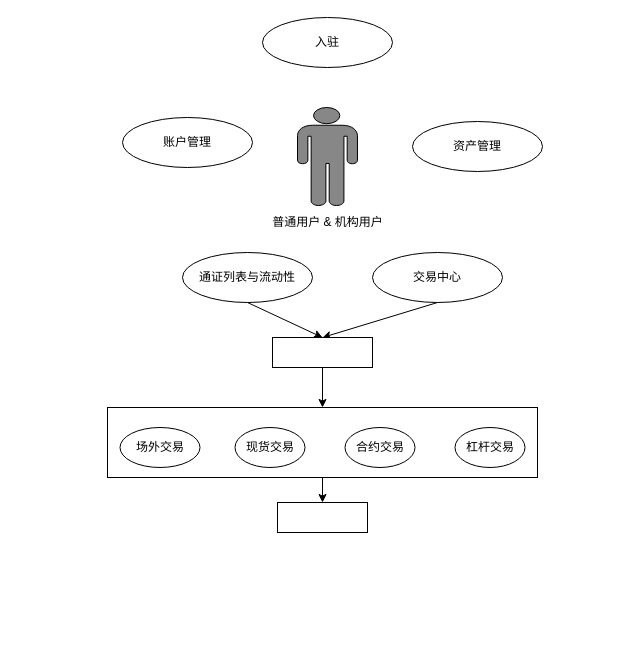
Some shapes in this 644 by 645 pixel diagram are drawn without their labels. Each missing label, with the box of its shape:
入金: (272, 336, 372, 368)
出金: (276, 502, 368, 532)
